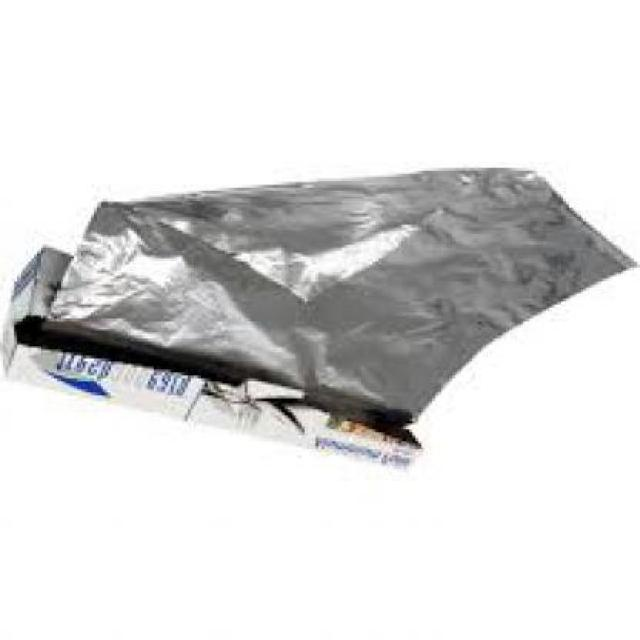METAL: (40, 174, 637, 426)
